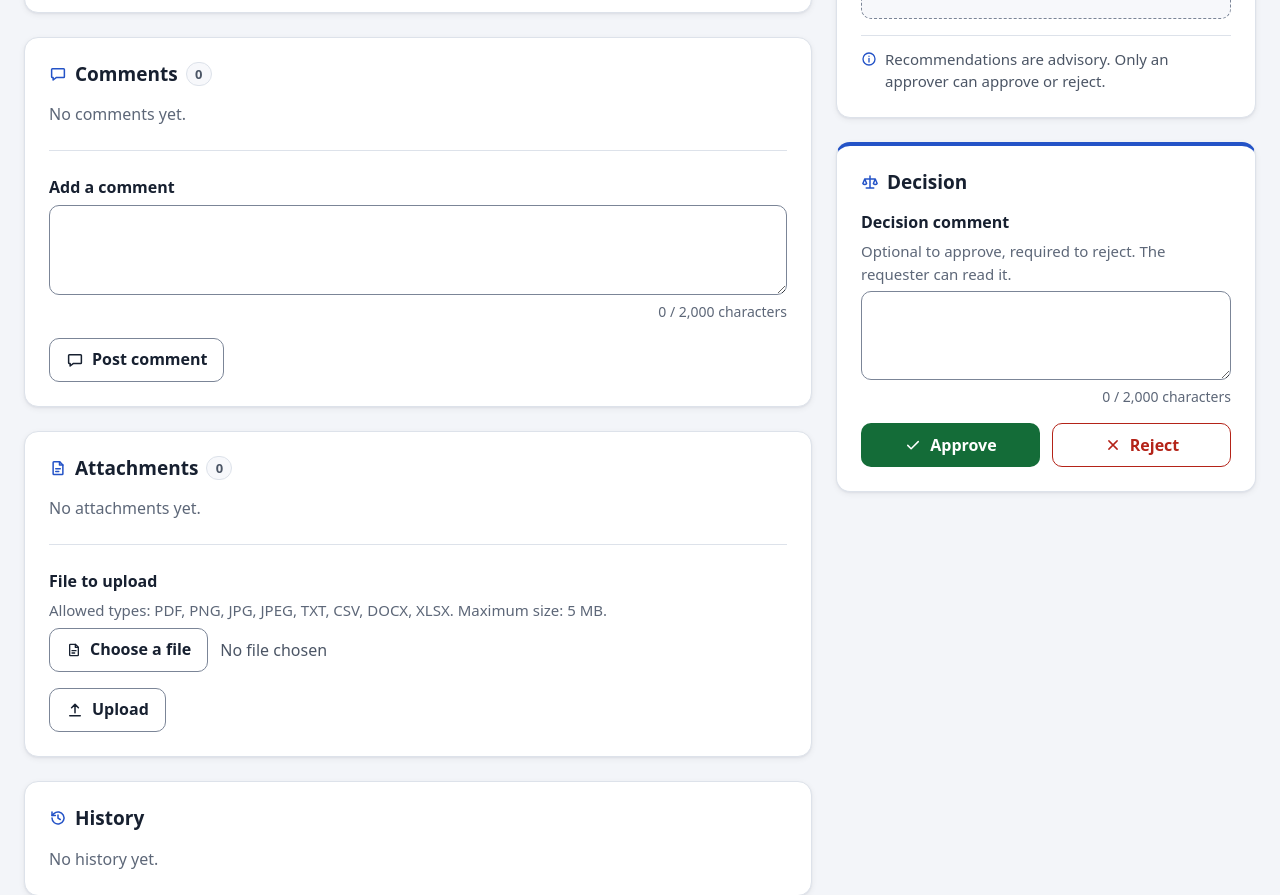
Test: DecisionPanel › requires a comment to reject and sends one idempotency key per approval attempt
The image size is (1280, 895).
(page scrolled)
Click the button "Reject" at {"x": 1142, "y": 445}, box [1052,423,1231,467]
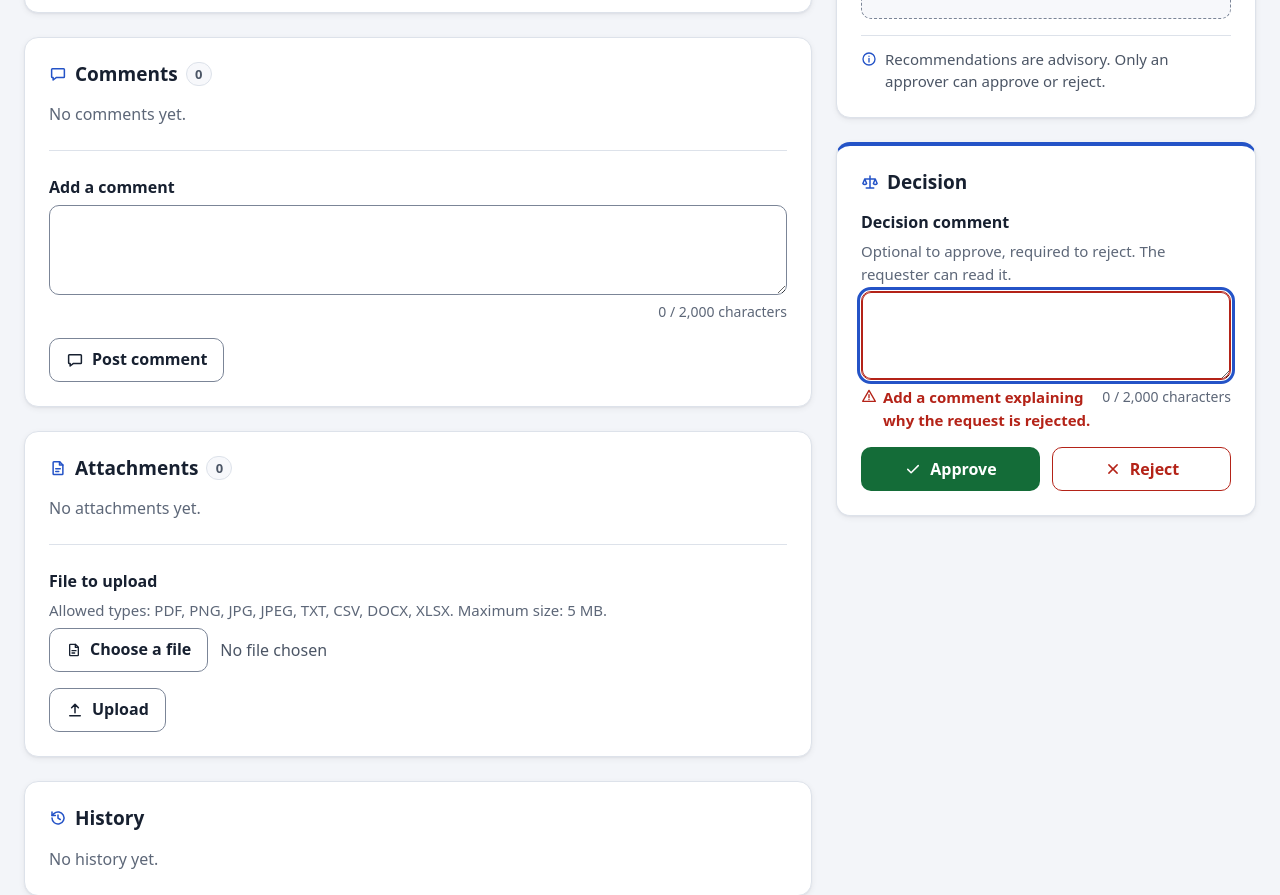
Expected: the text "Add a comment explaining why the request is rejected." is shown, [861,386,1090,431]
Type "OK" into the text box labelled "Decision comment" at {"x": 1046, "y": 336}, box [861,291,1231,380]
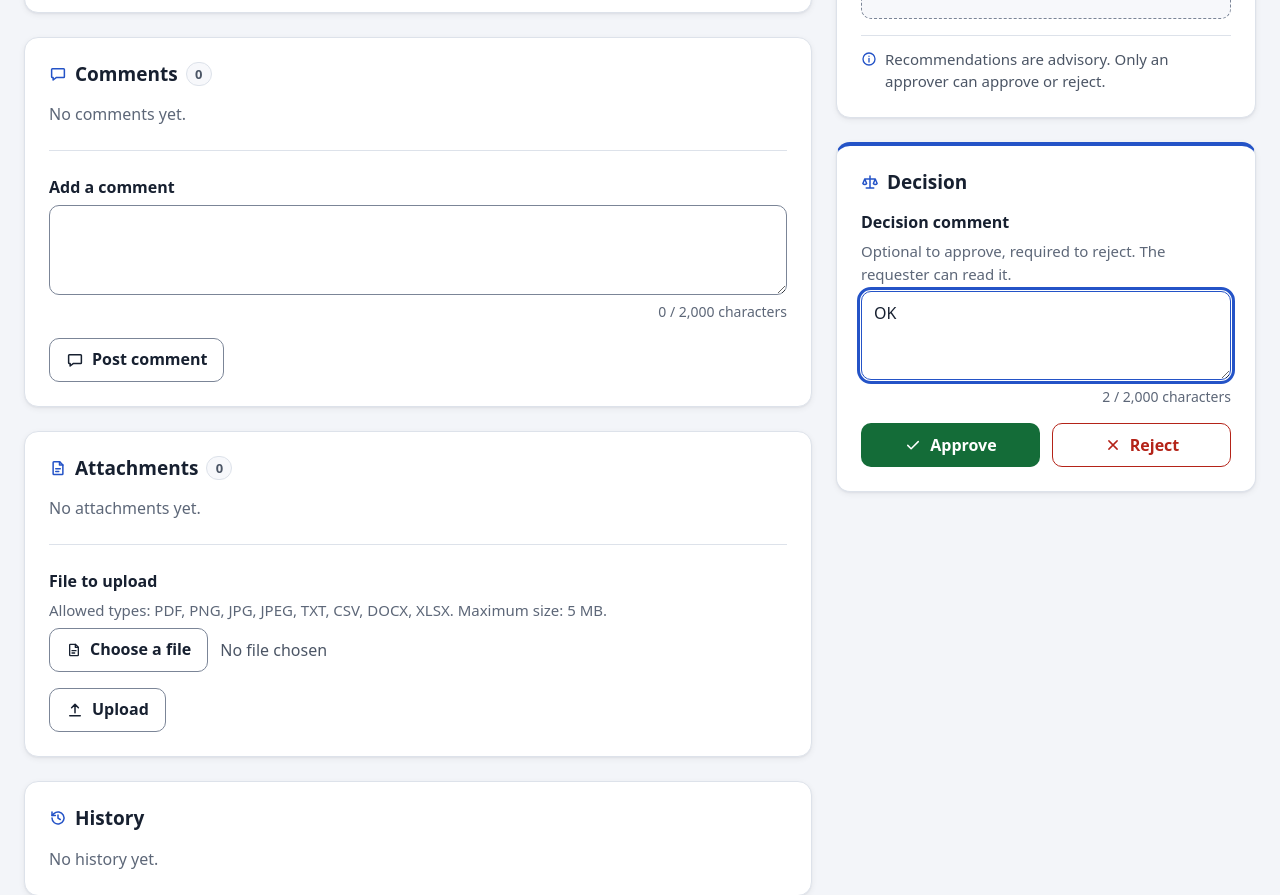
Click the button "Approve" at {"x": 950, "y": 445}, box [861,423,1040,467]
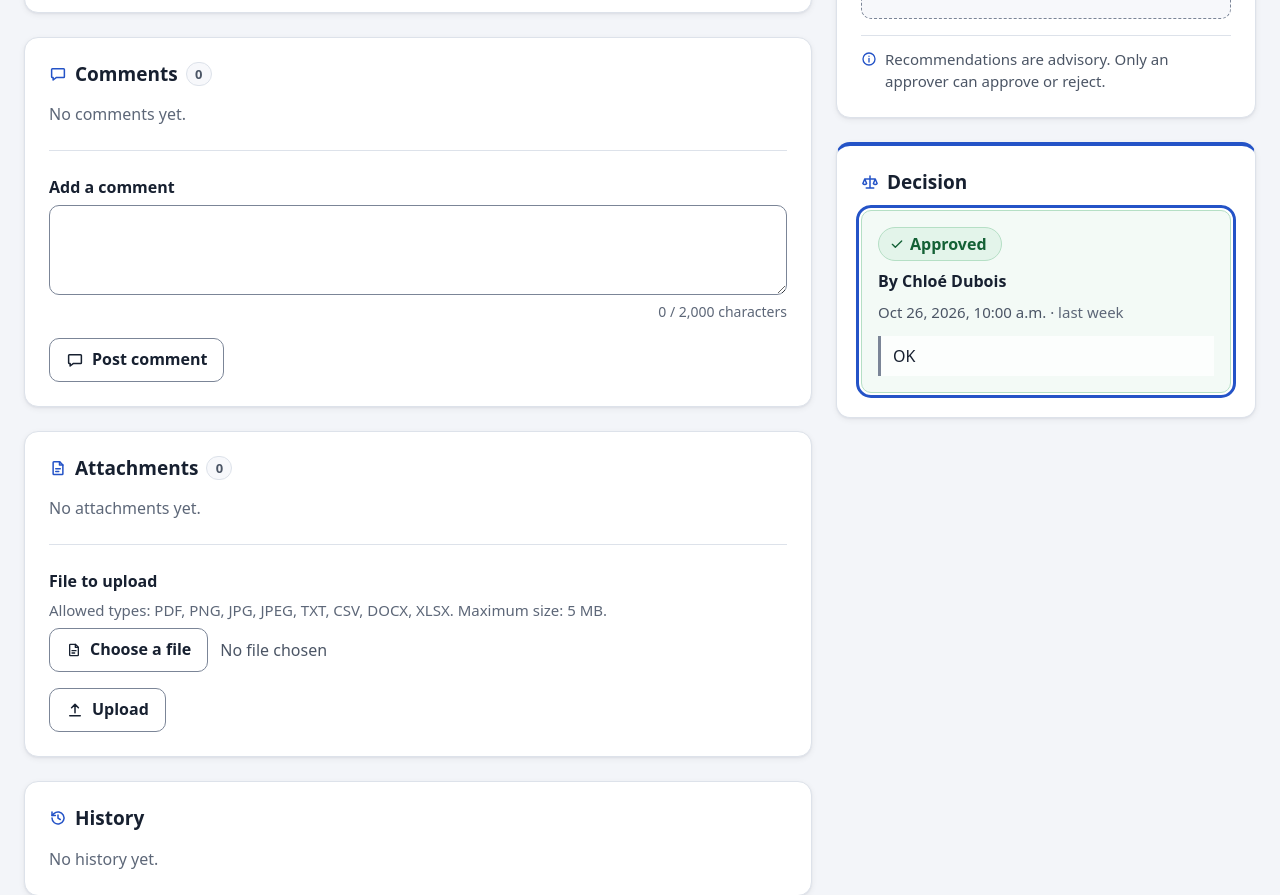
Expected: the text "By Chloé Dubois" is shown, [878,269,1006,293]
